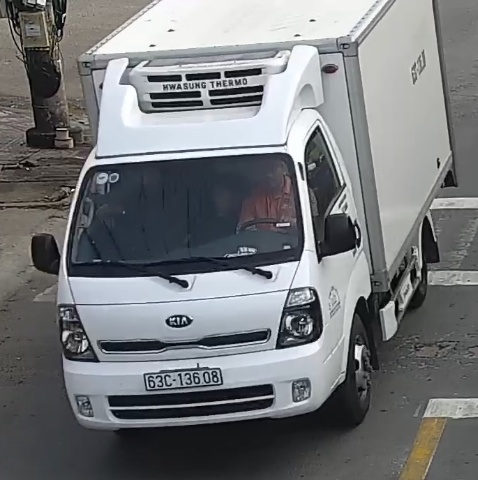vehicle plate: (138, 366, 232, 391)
